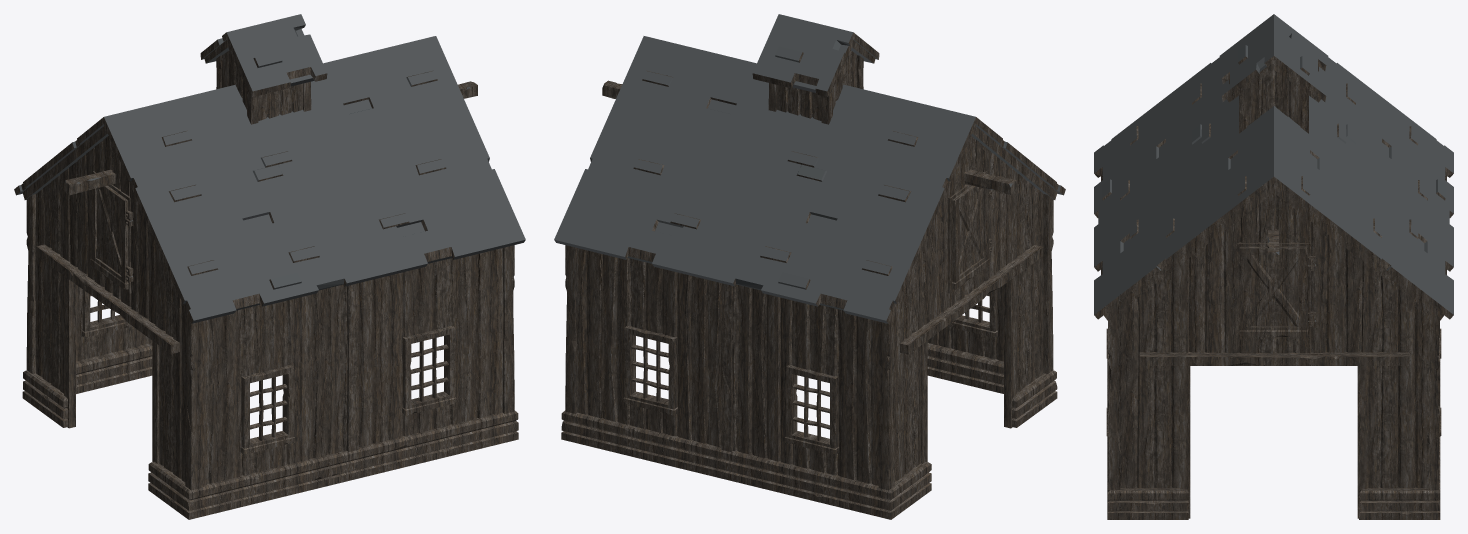
The model's file is BarnDark_Open.fbx.
3 renders of one model, left to right at view 1: azimuth 30°, elevation 25°; view 2: azimuth 150°, elevation 25°; view 3: azimuth 270°, elevation 25°, orthographic.
Parts seen in each view (by area): view 1: HW_Dark_SM_Bld_Barn_03_Export, HW_Dark_SM_Bld_Barn_03_Shutter_01_Export; view 2: HW_Dark_SM_Bld_Barn_03_Export, HW_Dark_SM_Bld_Barn_03_Shutter_01_Export; view 3: HW_Dark_SM_Bld_Barn_03_Export, HW_Dark_SM_Bld_Barn_03_Shutter_02_Export.
Part boxes in pixels (<box>): HW_Dark_SM_Bld_Barn_03_Export: <box>14,14,525,519</box>; HW_Dark_SM_Bld_Barn_03_Shutter_01_Export: <box>90,185,128,289</box>; HW_Dark_SM_Bld_Barn_03_Export: <box>554,14,1065,519</box>; HW_Dark_SM_Bld_Barn_03_Shutter_01_Export: <box>951,185,990,289</box>; HW_Dark_SM_Bld_Barn_03_Export: <box>1094,14,1453,519</box>; HW_Dark_SM_Bld_Barn_03_Shutter_02_Export: <box>1238,246,1308,337</box>.
Size of the model in its own units: 2084 by 1942 by 1586.
Materials: 2 (1 with a texture image).
